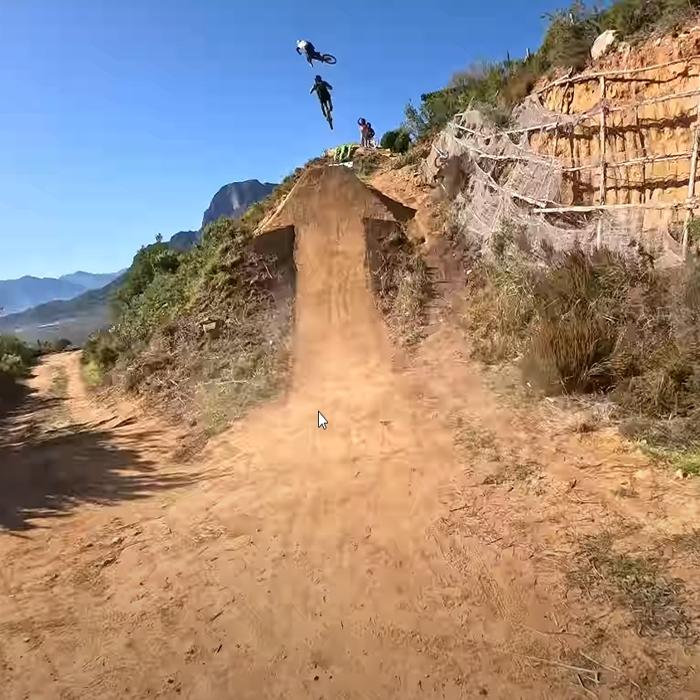turn: (269, 159, 386, 242)
